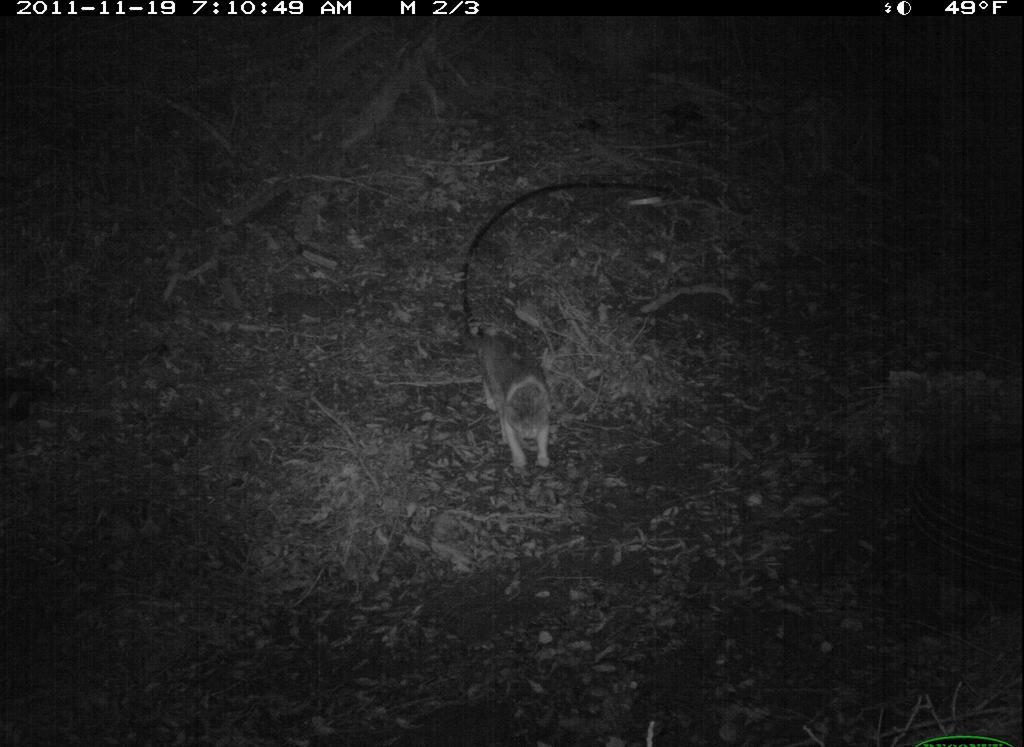cat: (452, 317, 571, 479)
